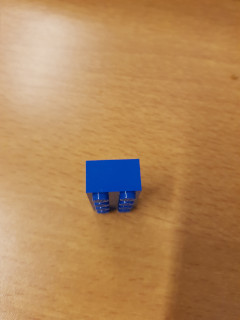2x4 blue: (83, 155, 145, 216)
